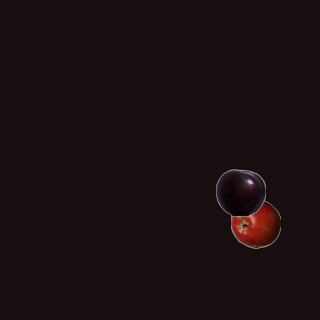Apple Braeburn: (230, 198, 280, 248)
Cherry Wax Black: (215, 167, 265, 217)
